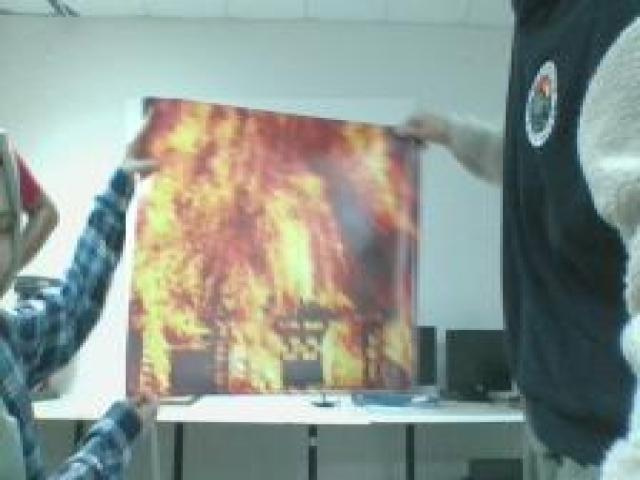fire-poster: (120, 94, 426, 403)
